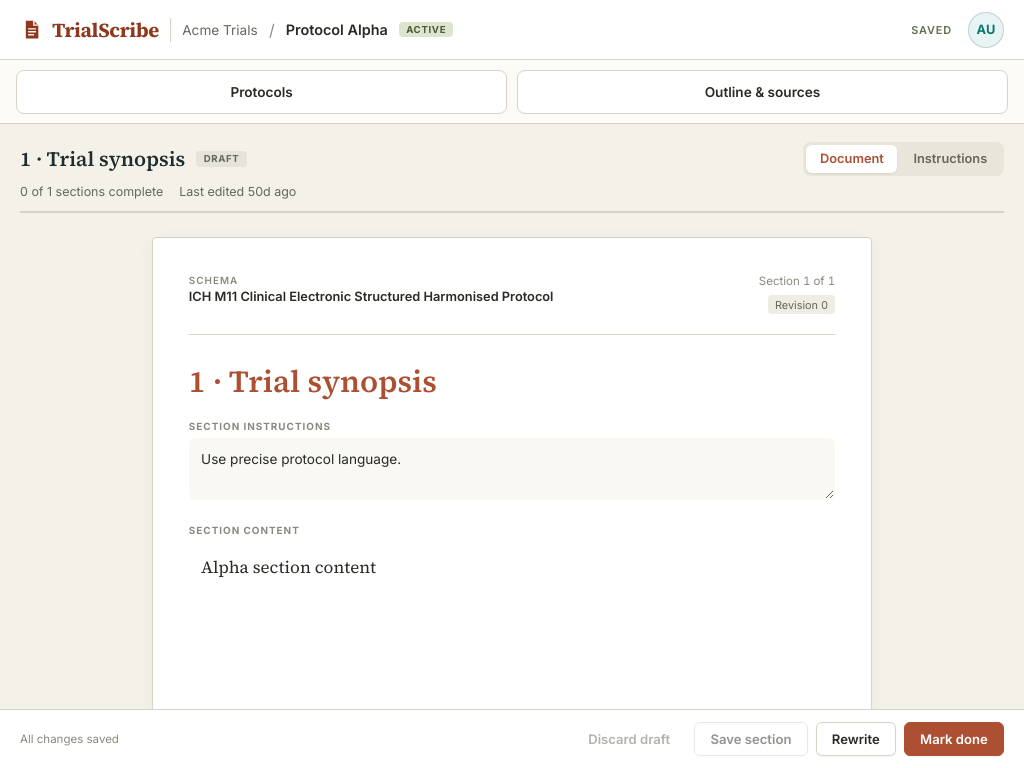
it: DashboardPage authoring workspace › renders all three panes and independent scrolling regions
Expected: the heading "1 · Trial synopsis" is shown, [20,147,185,171]
Expected: the text "Alpha instruction" is not shown
Click the button "Instructions" at x=950, y=159, box [900,145,1001,173]
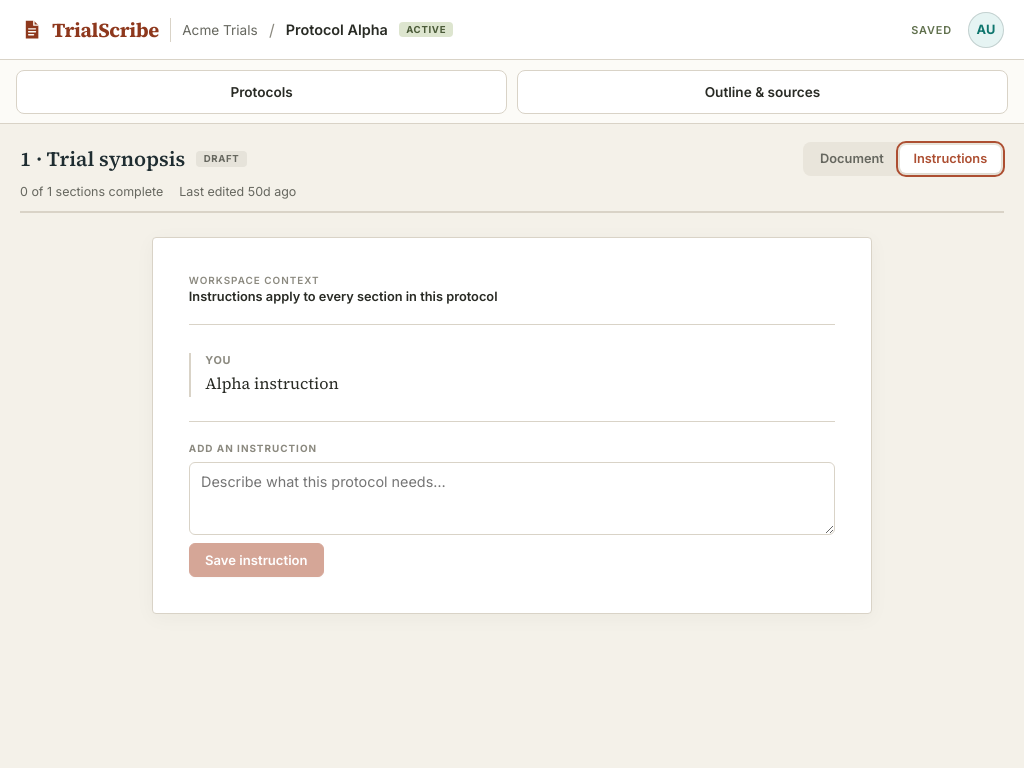
Expected: the text "Alpha instruction" is shown, [205,372,339,394]
